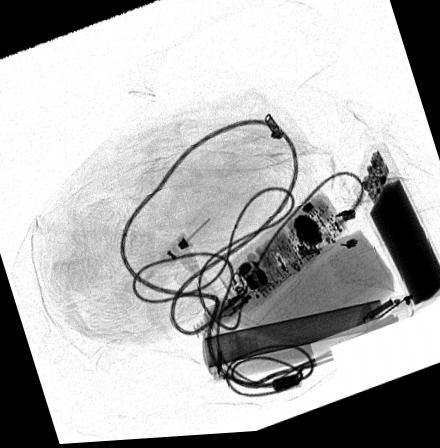Powerbank: (348, 146, 440, 317)
